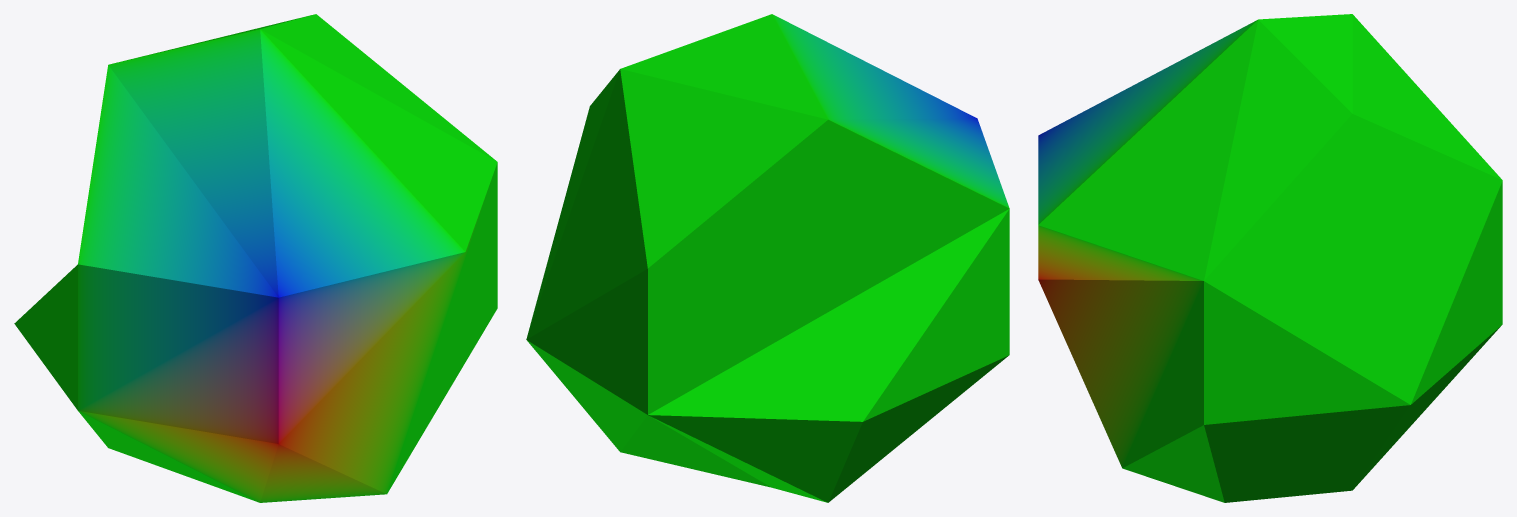
The model's file is before_decimating_conquest_4_1.obj.
The picture shows the model from 3 angles, left to right: view 1: azimuth 30°, elevation 25°; view 2: azimuth 150°, elevation 25°; view 3: azimuth 270°, elevation 25°; orthographic projection.
Size of the model in its own units: 1.85 by 2 by 1.81.
